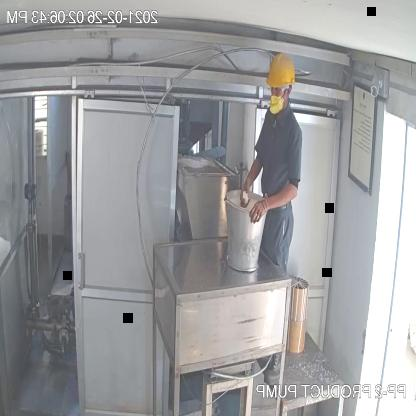helmet: (263, 50, 302, 94)
